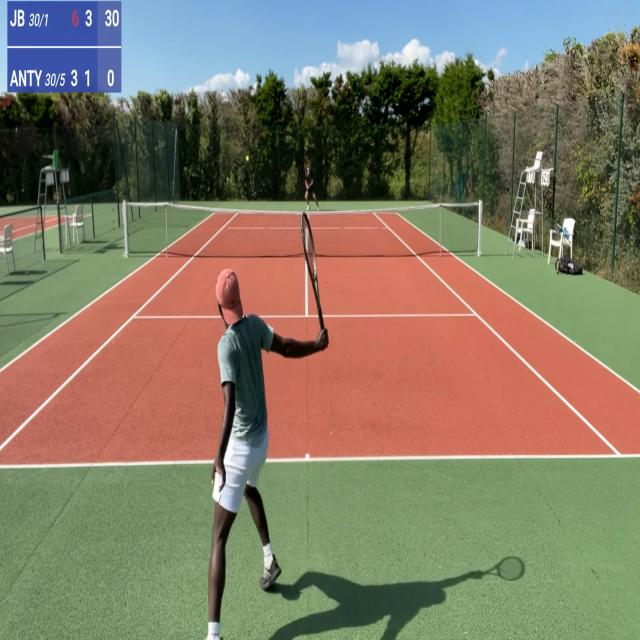ball: (246, 155, 249, 162)
